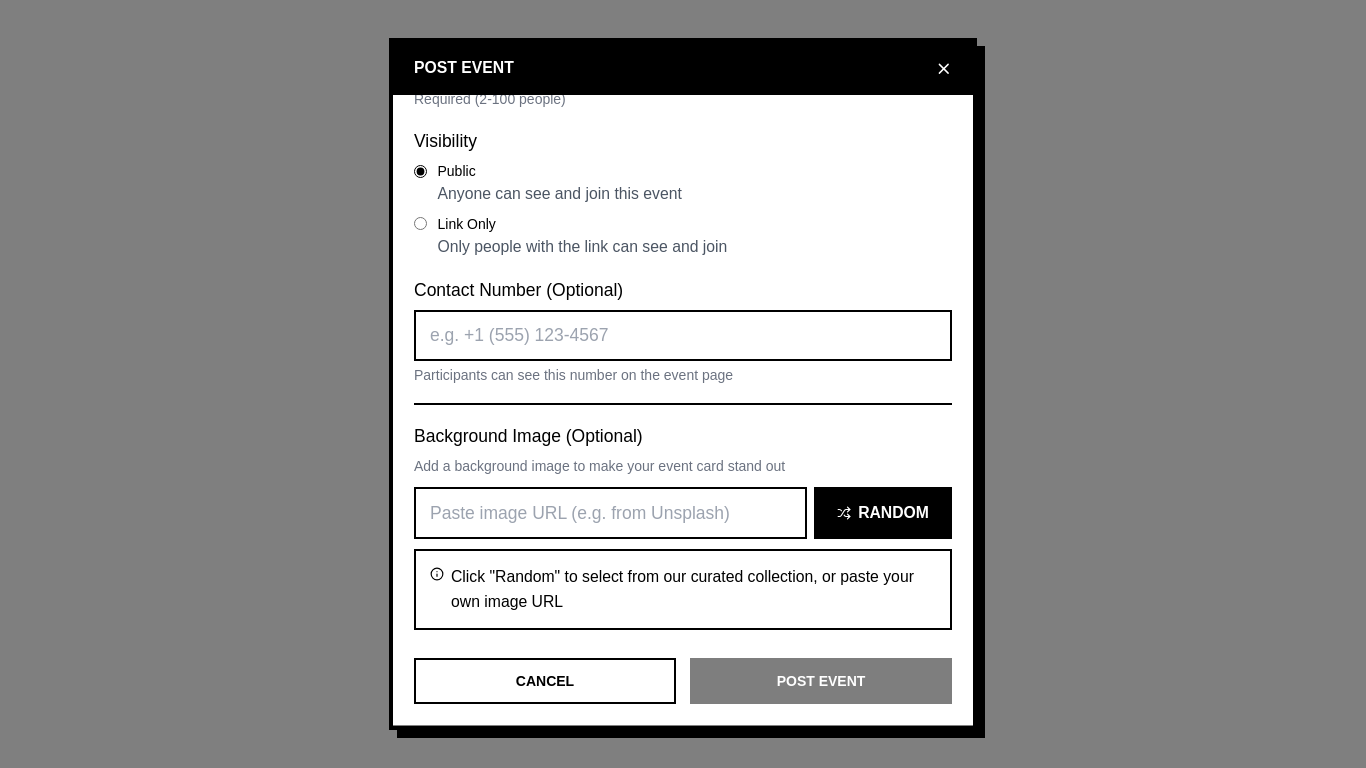
Test case: PostEventModal › Background Image Feature › should show image preview when URL is entered
(page scrolled)
In the field with placeholder "Paste image URL (e.g. from Unsplash)": coordinates (611, 513) x1=414 y1=487 x2=807 y2=539, type "https://example.com/image.jpg"
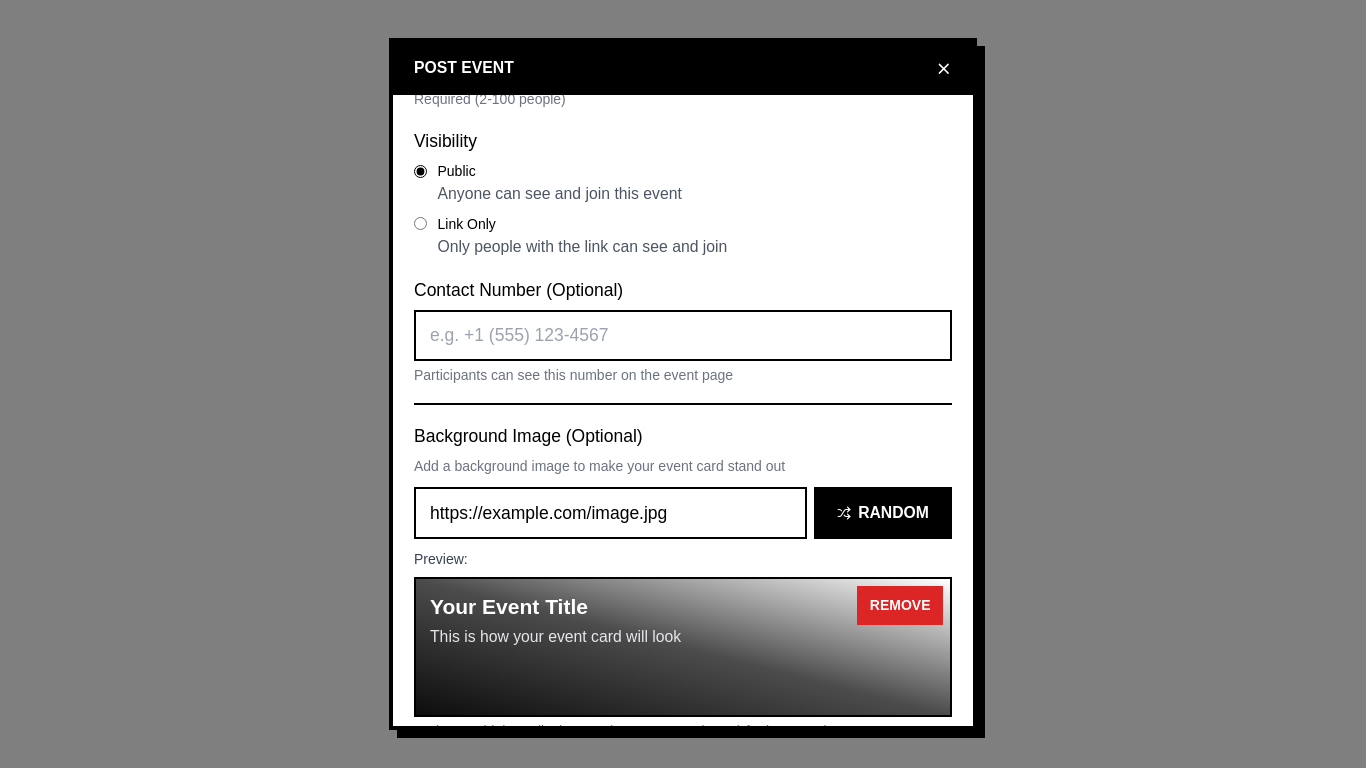
Now the text "Preview:" is shown, box x1=414 y1=551 x2=468 y2=567
Now the text "This is how your event card will look" is shown, box x1=430 y1=628 x2=681 y2=645
